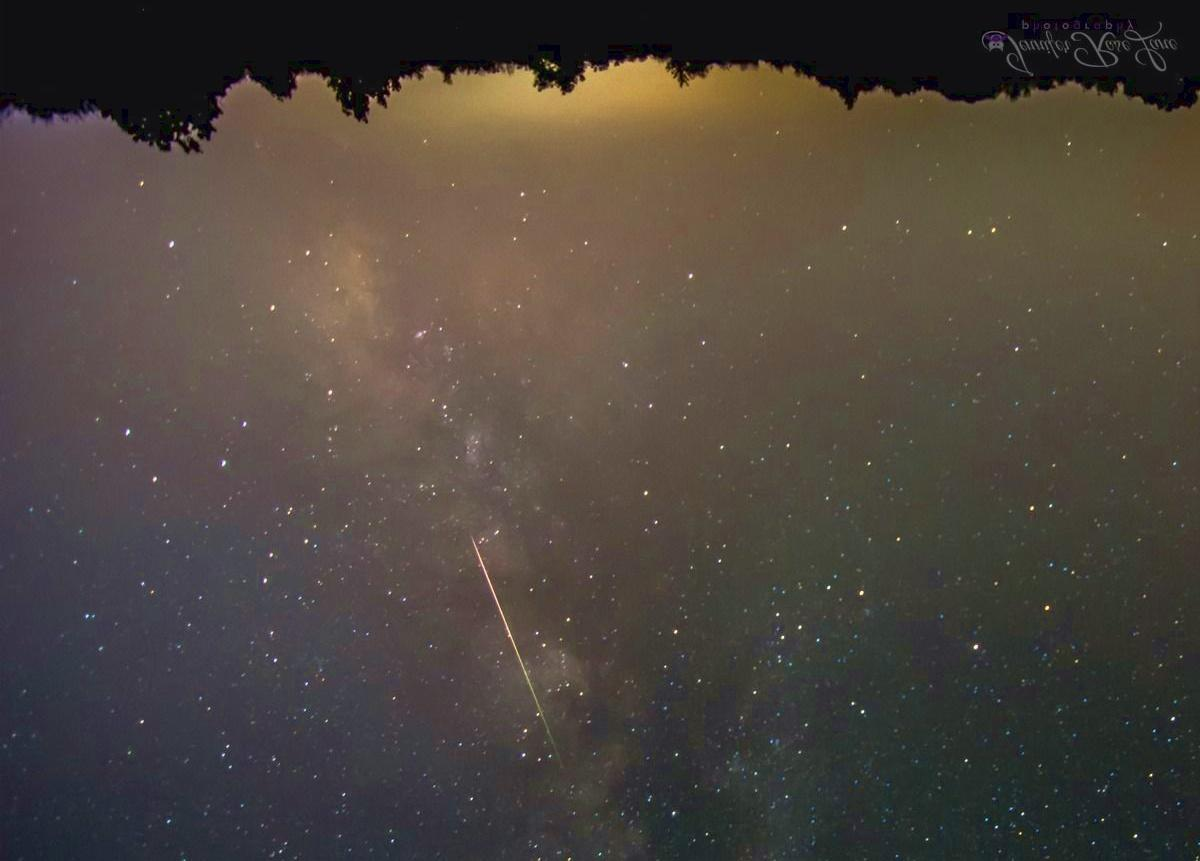meteorite: (433, 517, 553, 666)
